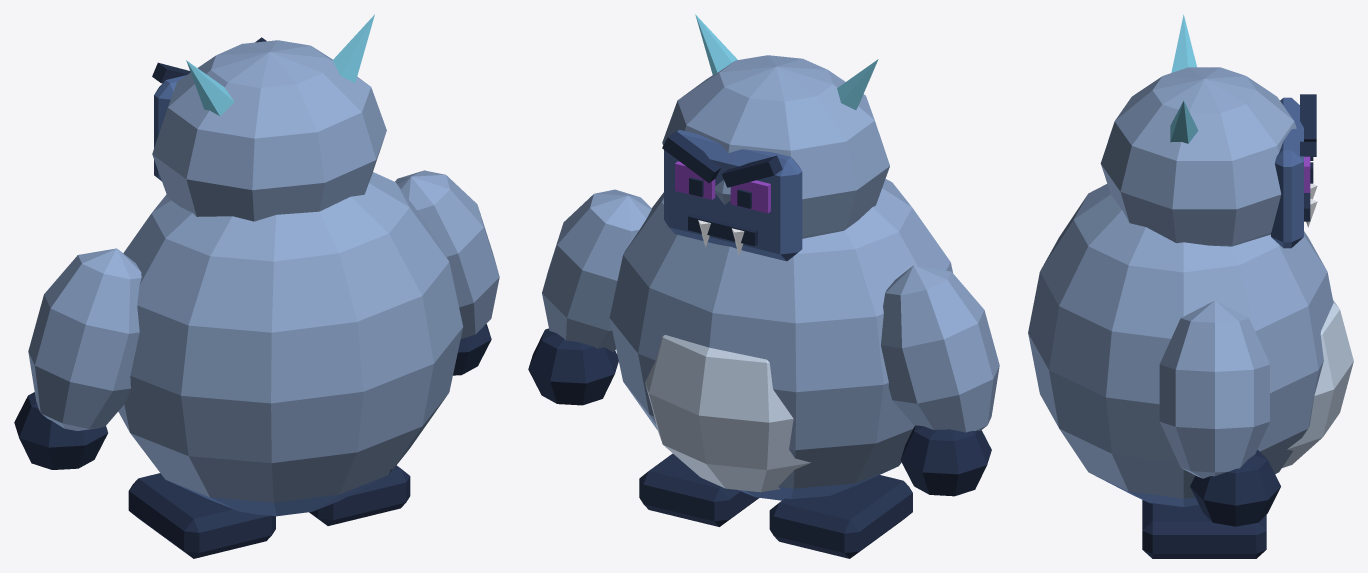
File: yeti.glb
3 renders of one model, left to right at view 1: azimuth 30°, elevation 25°; view 2: azimuth 150°, elevation 25°; view 3: azimuth 270°, elevation 25°, orthographic. The views are drawn at different scales.
Visible parts, largest first — view 1: yeti; view 2: yeti; view 3: yeti.
Boxes of the visible parts, box(x1,y1,x2,y2) form: yeti: box(14, 14, 499, 558); yeti: box(528, 14, 999, 558); yeti: box(1028, 14, 1353, 558).
Size of the model in its own units: 2.44 by 2.42 by 1.57.
1 material, 1 textured.
